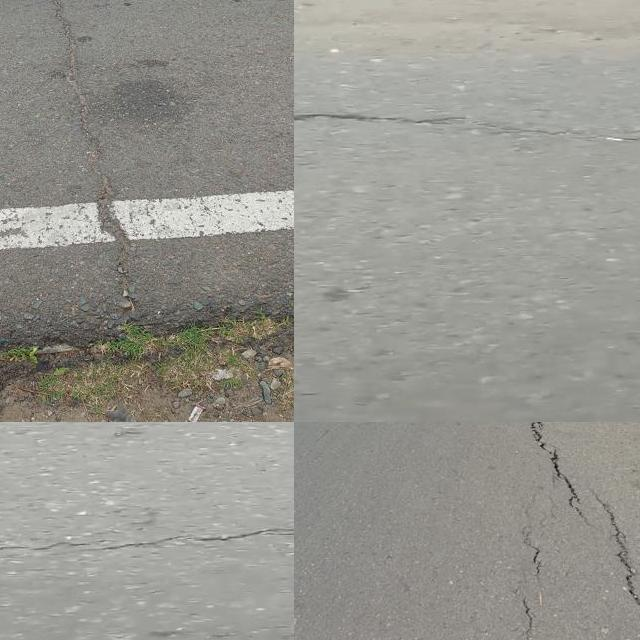Melintang: (294, 102, 542, 149)
Memanjang: (22, 0, 154, 320), (519, 422, 640, 628)
